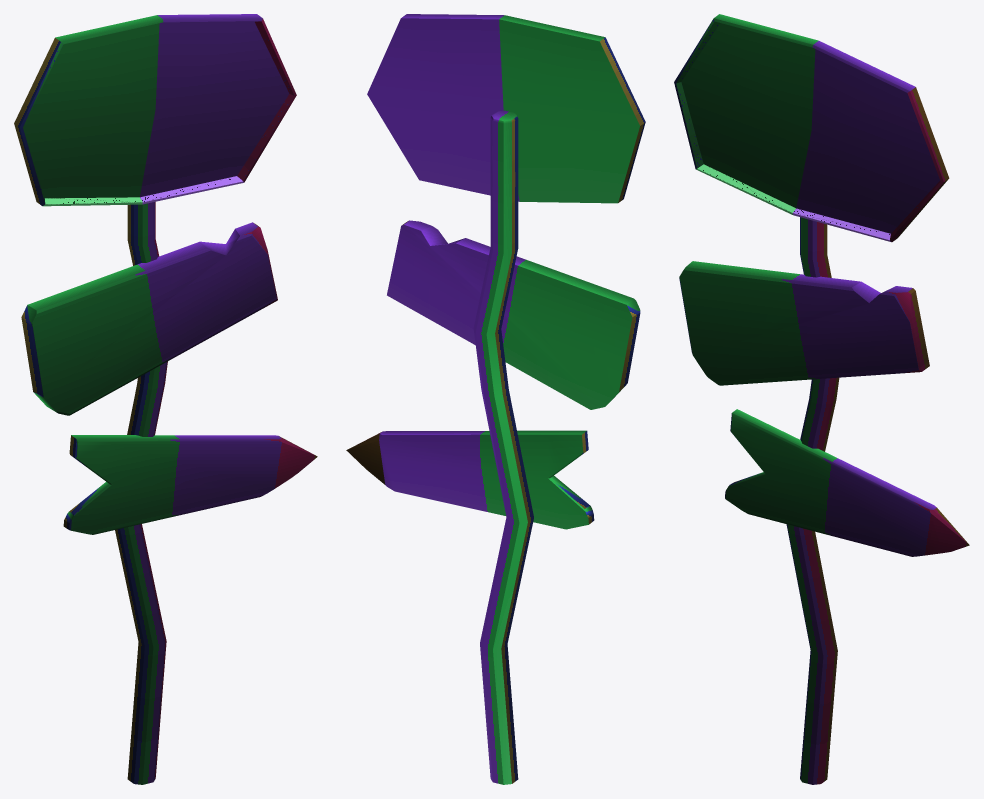
File: ENV_SignPost.fbx
3 views of the same model, side by side, from view 1: azimuth 30°, elevation 25°; view 2: azimuth 150°, elevation 25°; view 3: azimuth 330°, elevation 25° (orthographic). The views are drawn at different scales.
Visible parts, largest first — view 1: SignPost; view 2: SignPost; view 3: SignPost.
Boxes of the visible parts, left/top/right/bottom form: SignPost: left=14, top=14, right=317, bottom=784; SignPost: left=346, top=14, right=645, bottom=784; SignPost: left=674, top=14, right=969, bottom=784.
Bounding box in the file's own units: 93.49 × 228 × 11.06.
